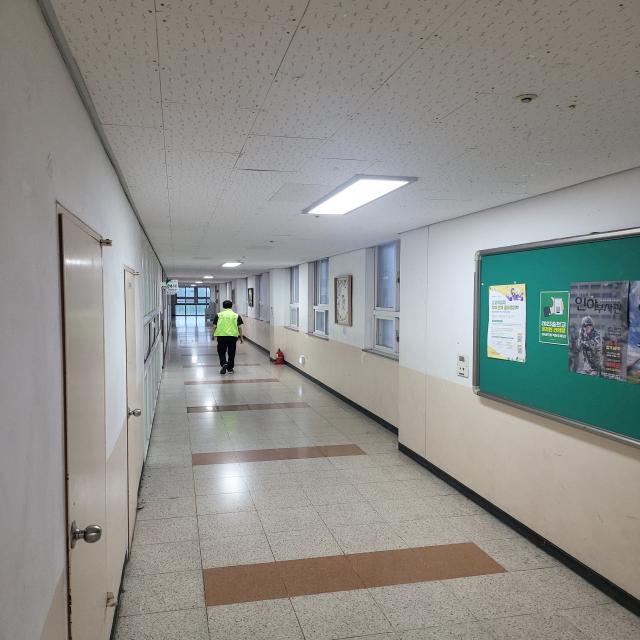weston_spy: (212, 305, 250, 345)
